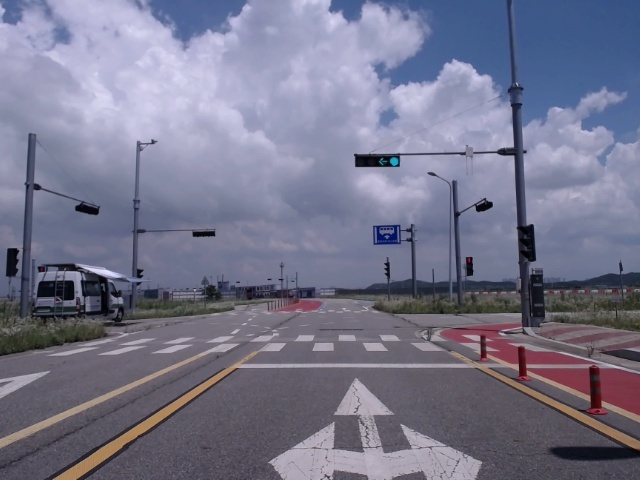all_green_4: (352, 153, 401, 169)
